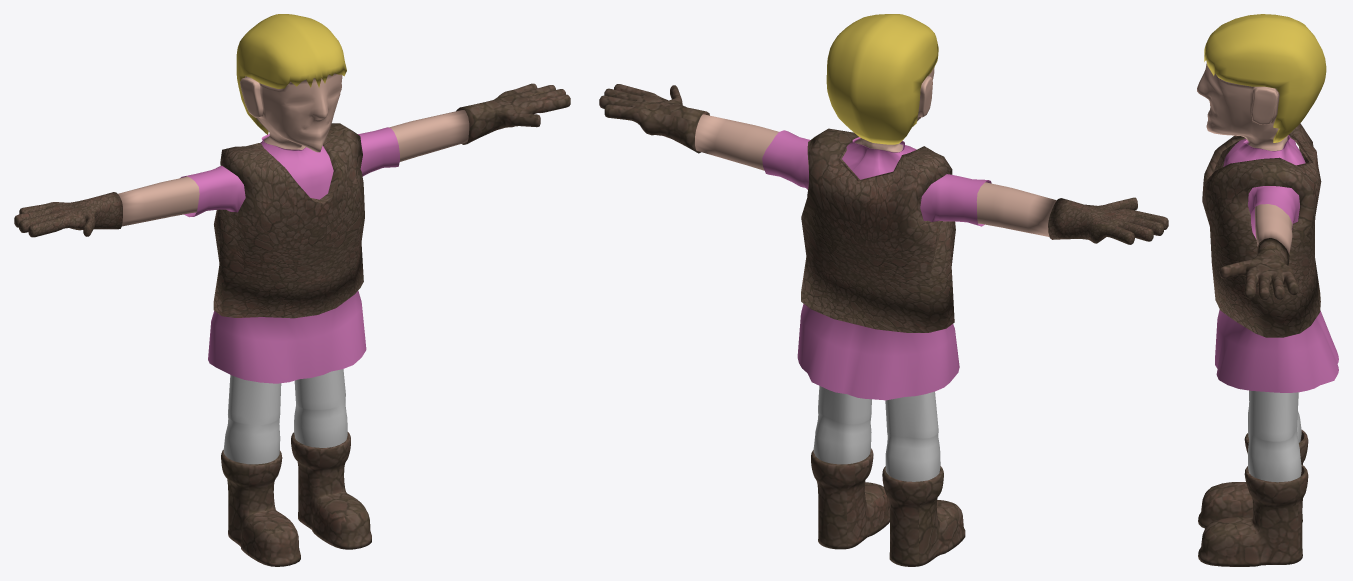
Rendered from PlayerCharacterv3.fbx.
3 renders of one model, left to right at view 1: azimuth 30°, elevation 25°; view 2: azimuth 150°, elevation 25°; view 3: azimuth 270°, elevation 25°, orthographic. The views are drawn at different scales.
Parts seen in each view (by area): view 1: Plane; view 2: Plane; view 3: Plane.
Part boxes in pixels (box(x1,y1,x2,y2)): Plane: box(14, 14, 570, 566); Plane: box(599, 14, 1168, 566); Plane: box(1197, 14, 1338, 566).
Bounding box in the file's own units: 1032 × 930 × 229.
5 materials, 1 textured.
